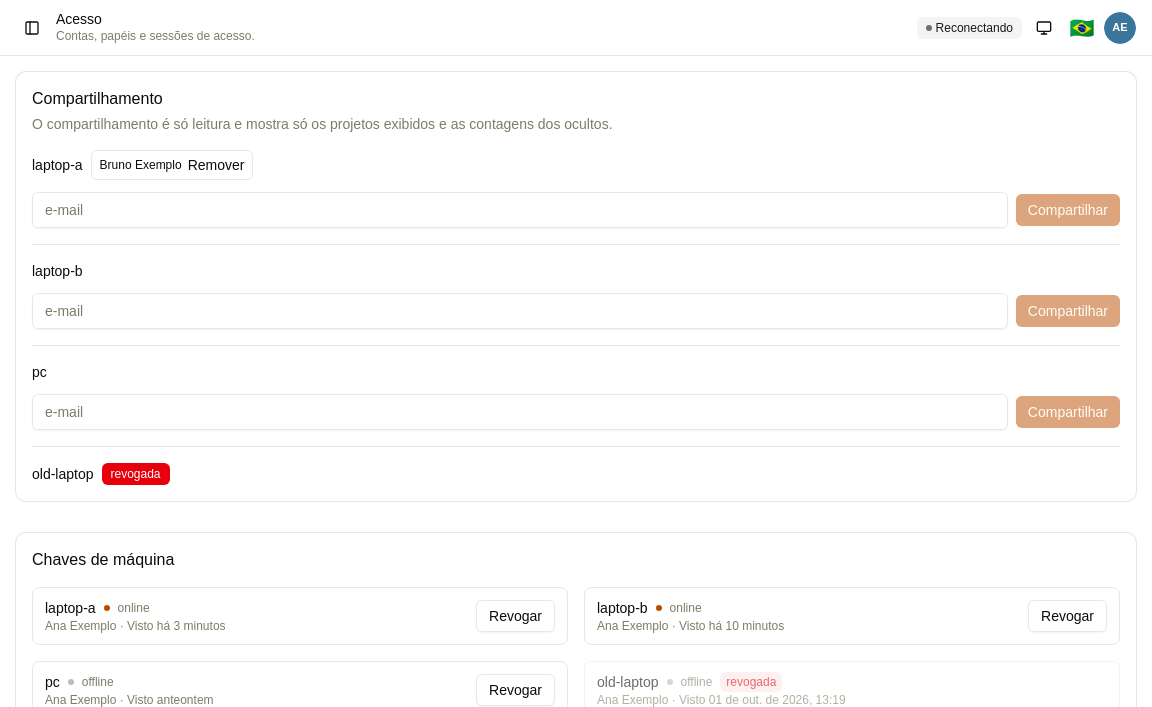
access: sharing › maps a 404 e-mail to the no-account message
The width and height of the screenshot is (1152, 707).
Expected: the heading "Compartilhamento" is shown, [32,90,163,107]
Type "desconhecido@example.com" into the field named "Compartilhar — laptop-b" at (520, 311), box [32,293,1008,329]
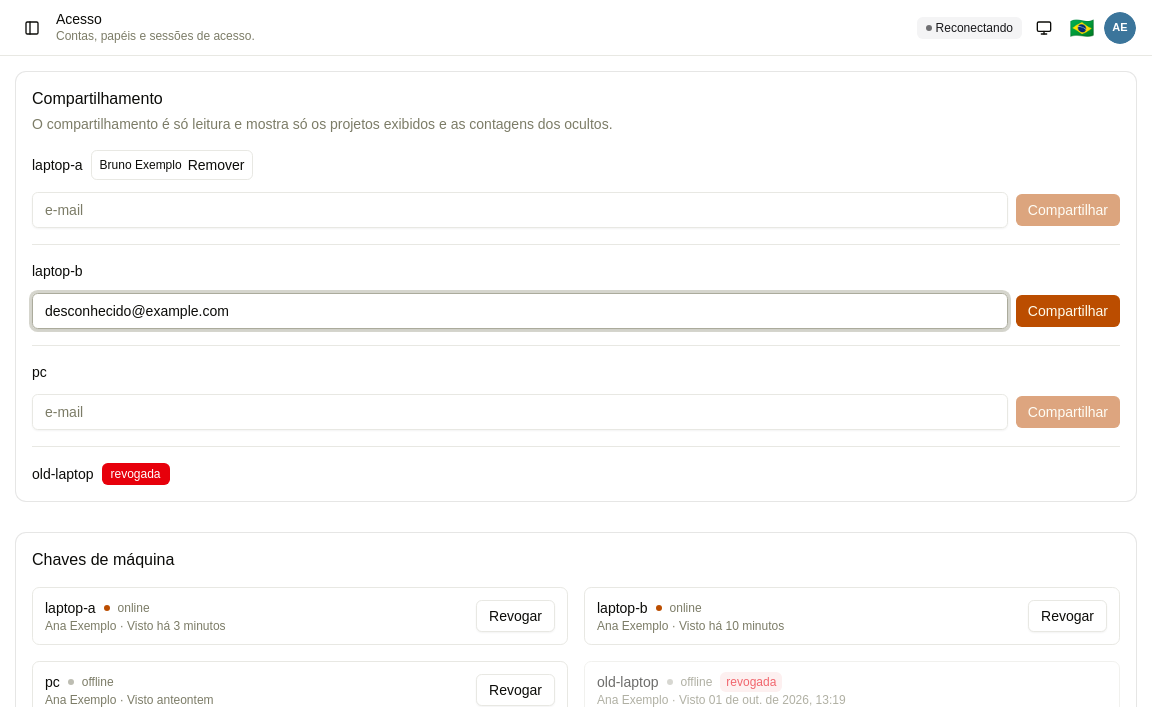
Click the 2nd button "Compartilhar" at (1068, 311), box [1016,295,1120,327]
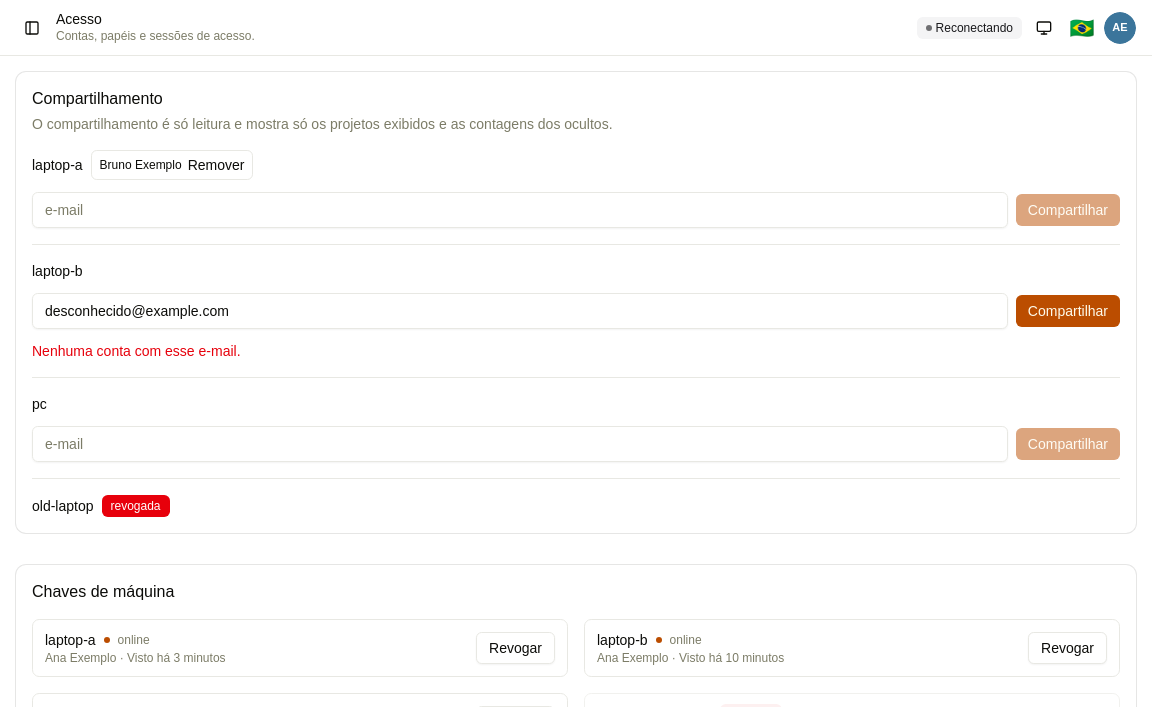
Result: the message reads "Nenhuma conta com esse e-mail." at [32,343,240,359]
